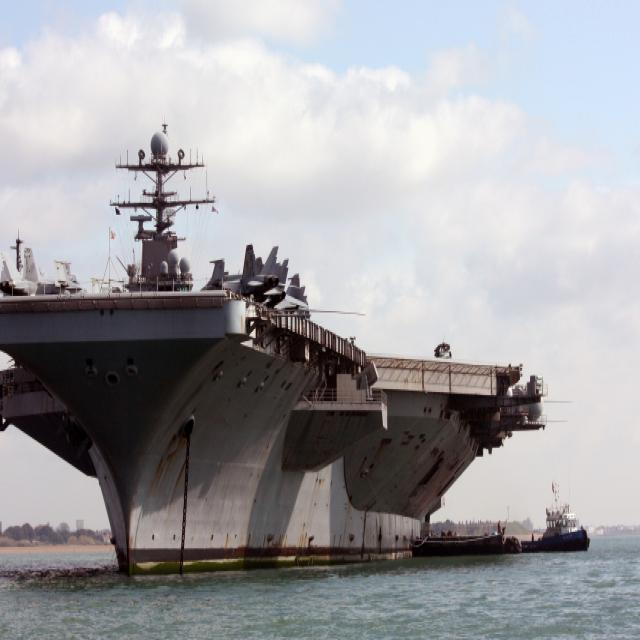Portanaves: (1, 106, 551, 587)
